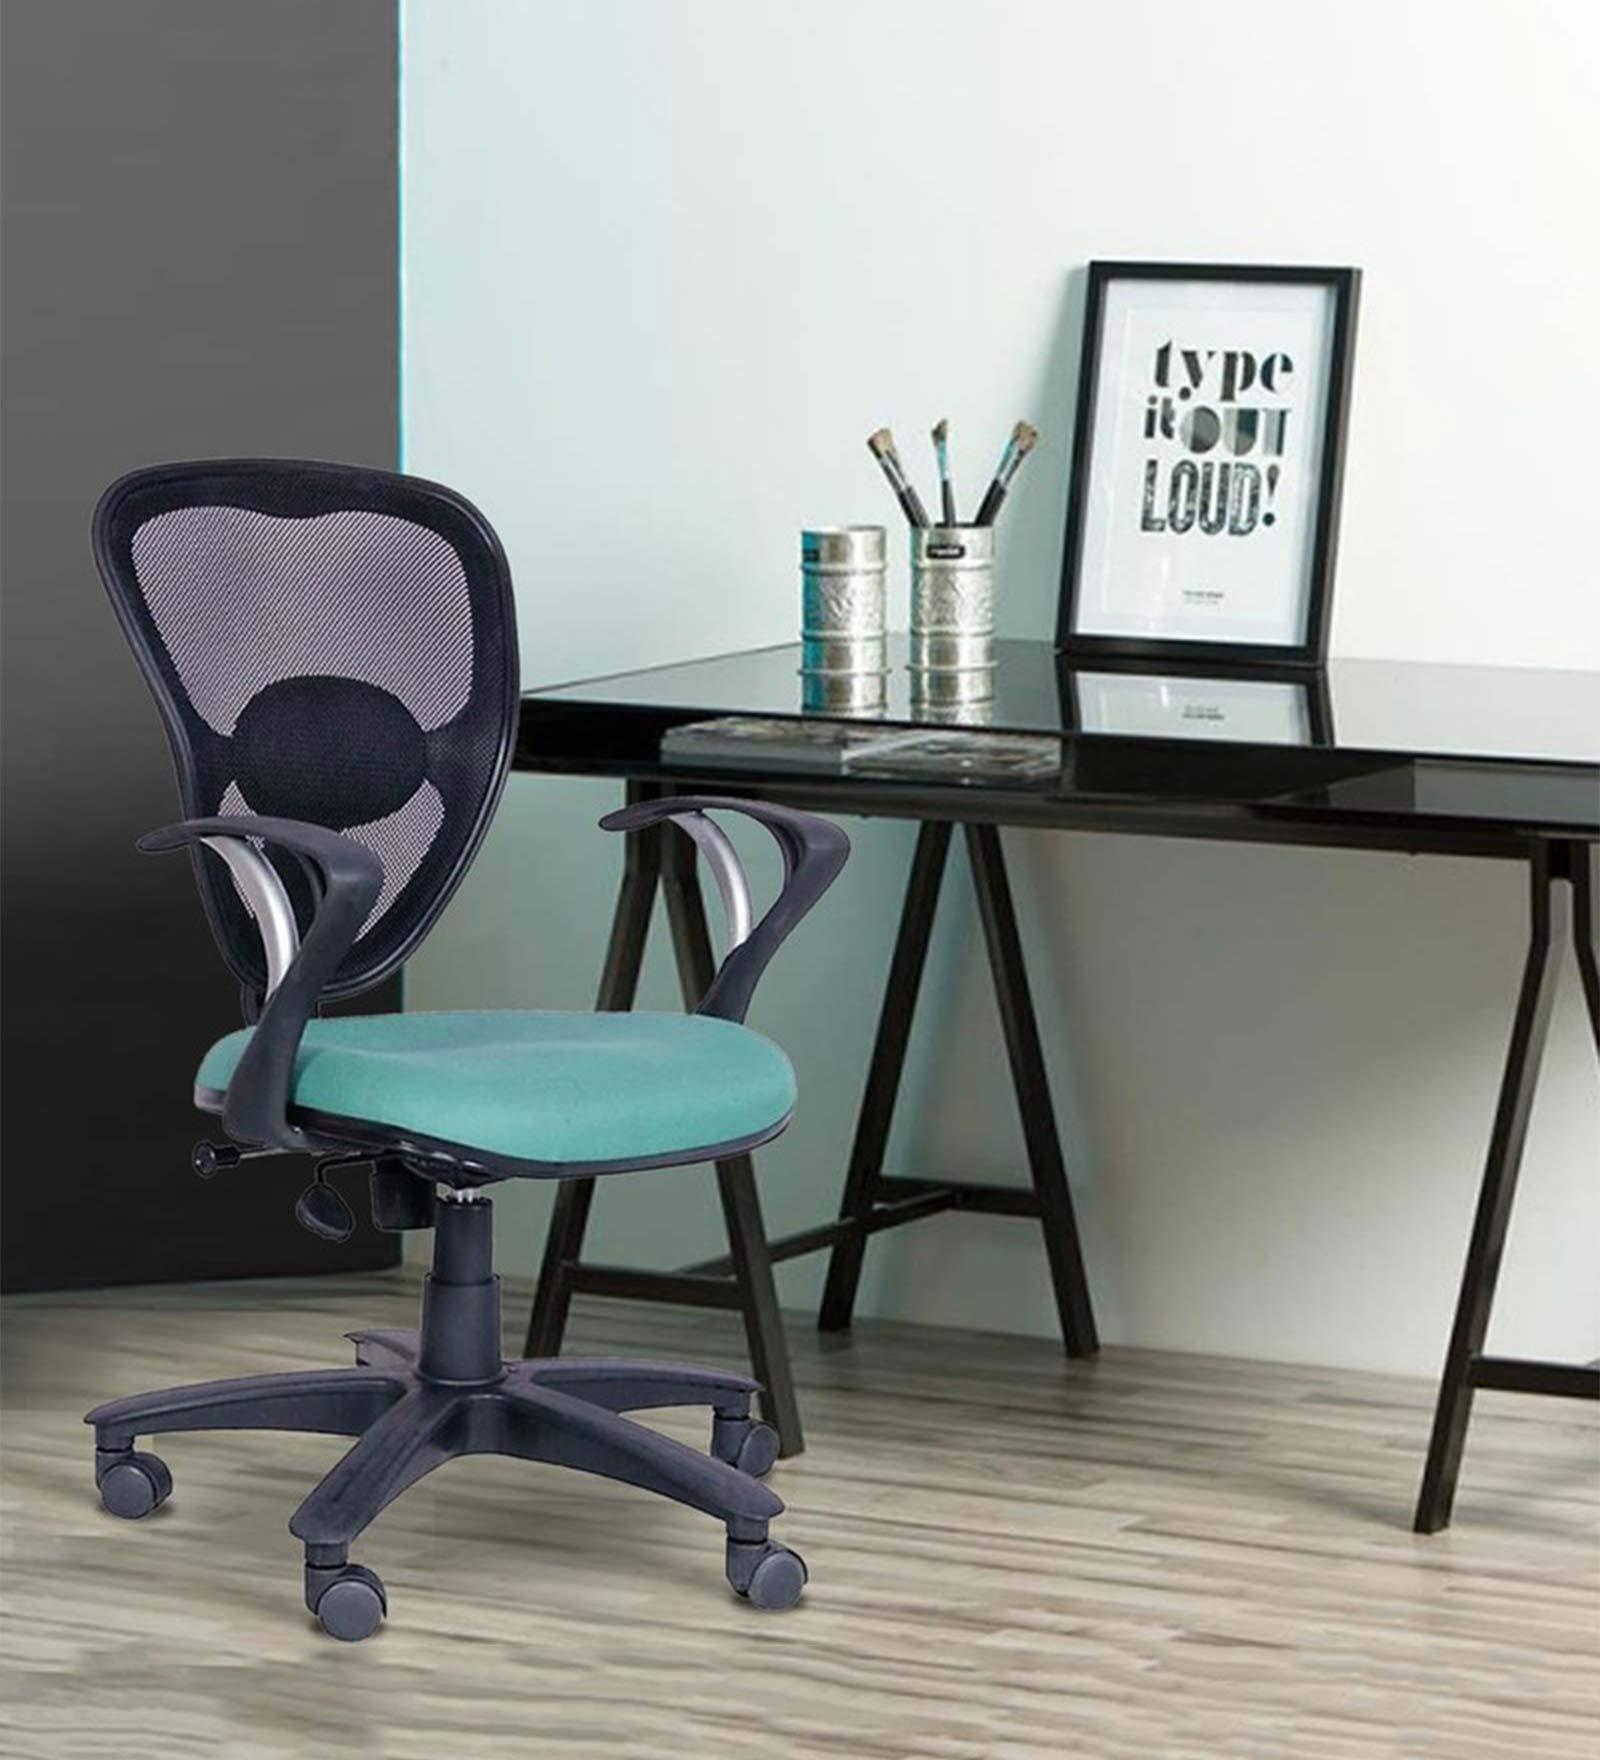Triangular Back Ergonomic Chair with Green Seat by Adiko Systems: (58, 396, 835, 1708)
